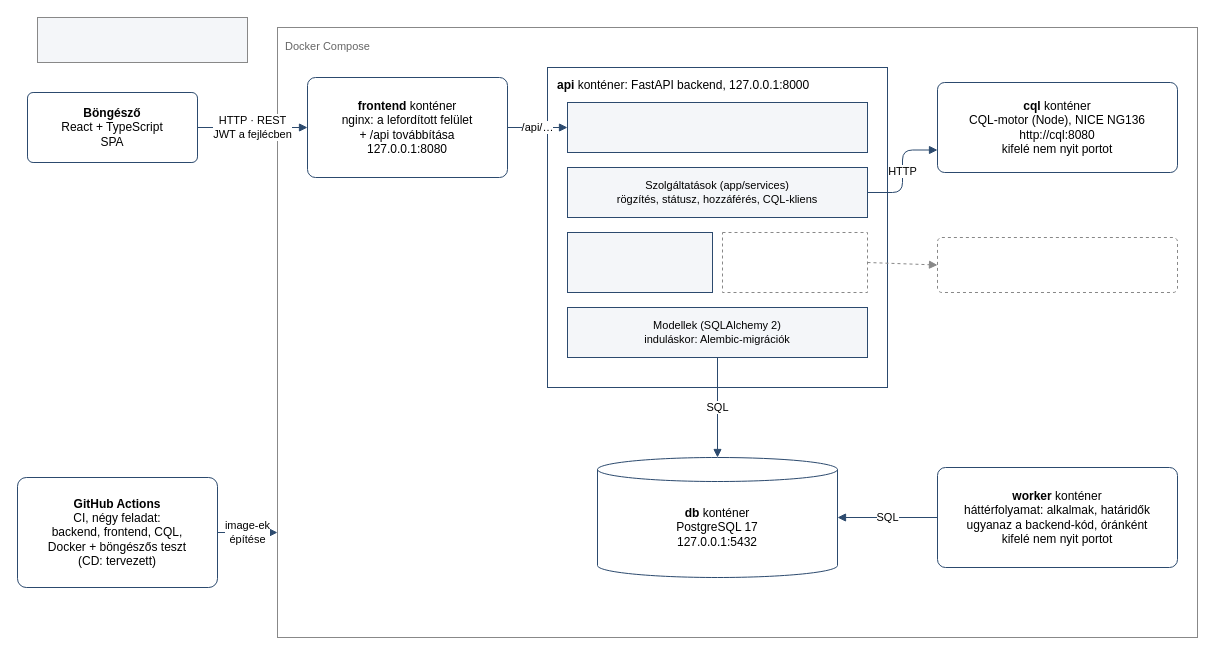
The diagram is 1215 pixels wide and 655 high, and some of its shapes have lost their labels. Each missing label, with the centre of its shape:
"E-mail-küldés (tervezett)" goes at point (795, 262).
"folytonos keret: megvalósítva (M3) szaggatott keret: tervezett" goes at point (142, 39).
"Mailpit (tervezett) fejlesztői SMTP-postafiók" goes at point (1057, 264).
"Szabálymotor (services/rules.py, tranzakción belül)" goes at point (639, 262).
"Végpontok (app/api) bemenet-ellenőrzés, hitelesítés, szerepkör" goes at point (717, 127).
